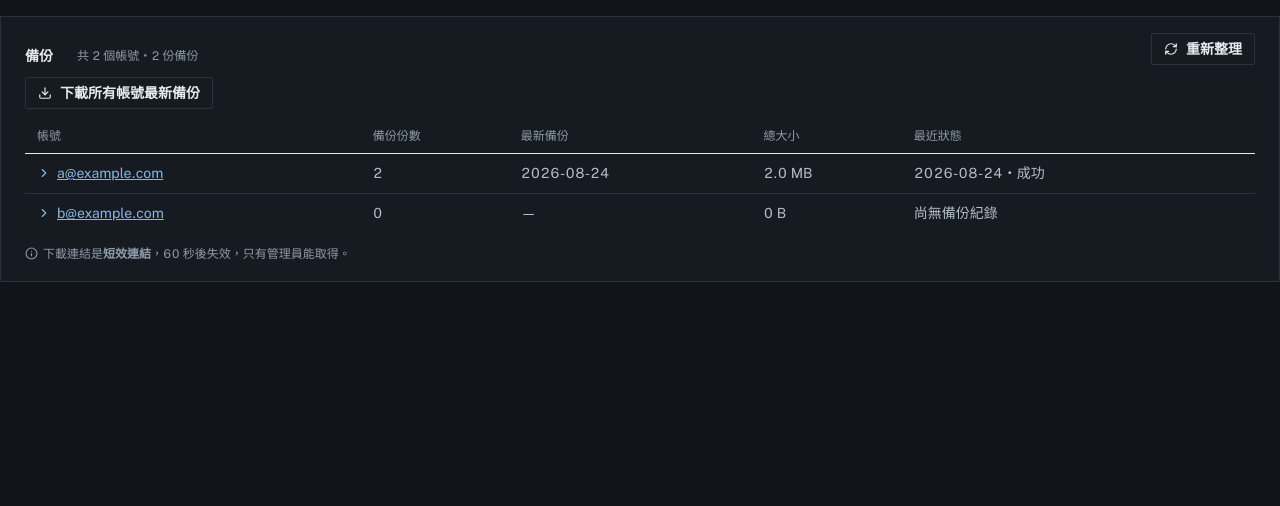
it: BackupsSection › 下載失敗時把後端訊息顯示在畫面上，而且不開分頁
Click the button "a@example.com" at (100,174), box x1=37 y1=163 x2=163 y2=184
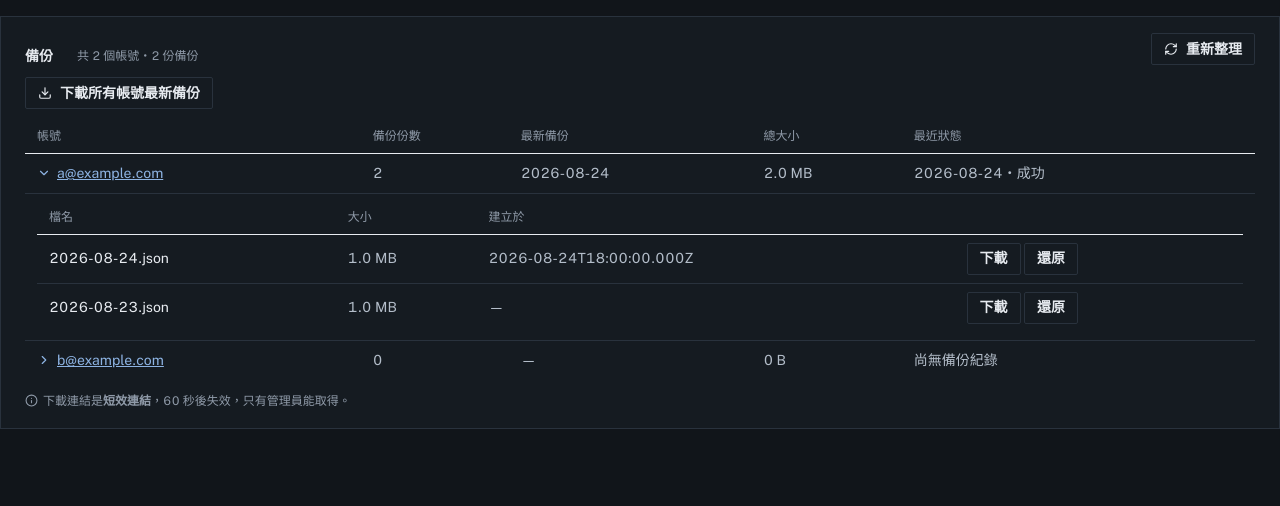
Expected: the text "2026-08-24.json" is shown, x1=37 y1=234 x2=340 y2=284
Click the button "下載" in the row of "2026-08-24.json" at (994,259), box x1=967 y1=243 x2=1021 y2=275
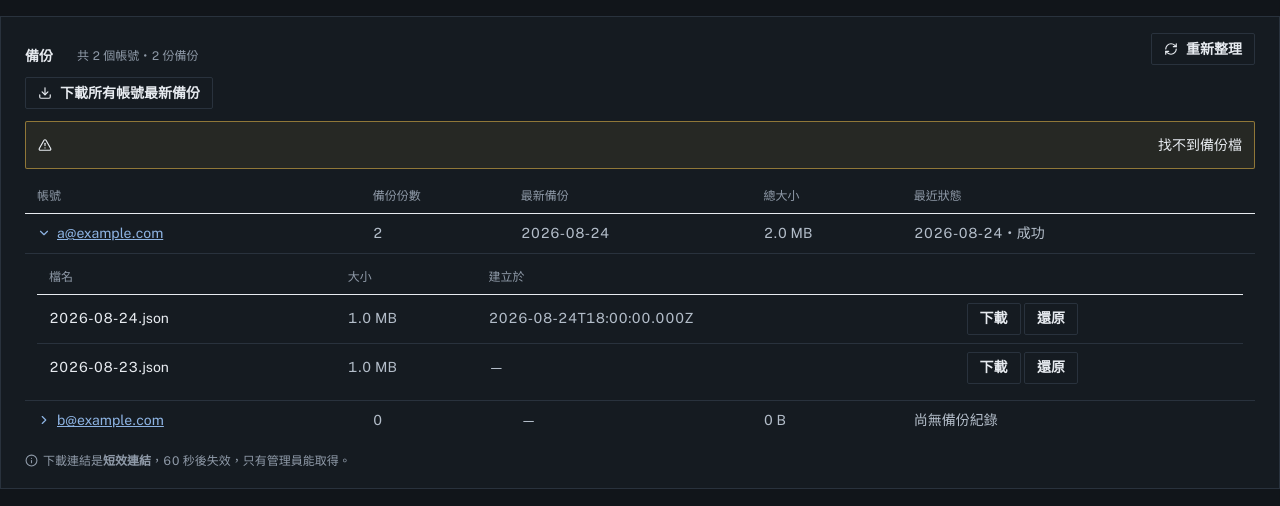
Expected: the text "找不到備份檔" is shown, x1=25 y1=121 x2=1255 y2=169
